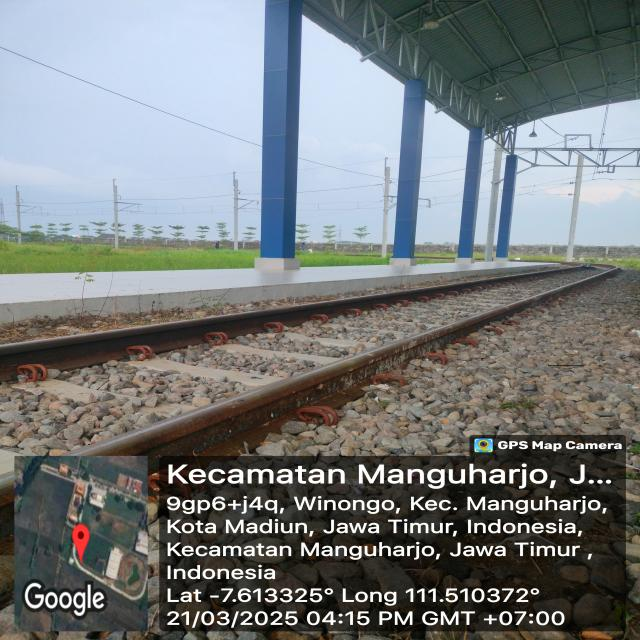rail-detection: (69, 270, 616, 459), (0, 266, 585, 380), (70, 430, 181, 469), (529, 268, 619, 303)
